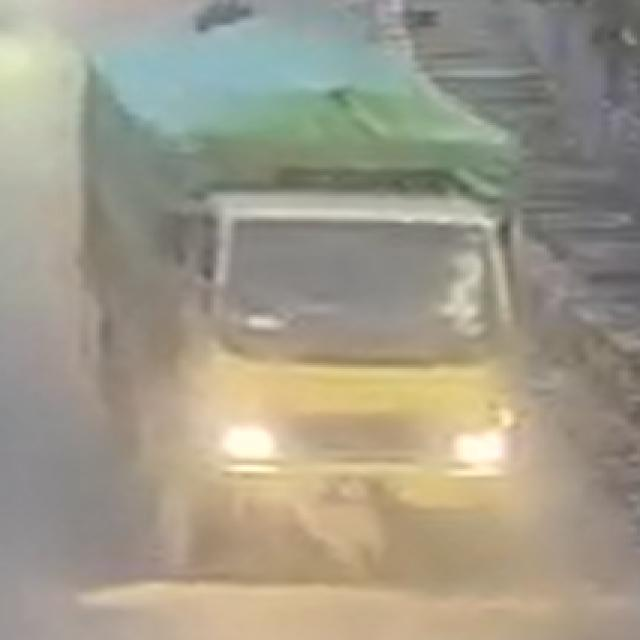Truck: (66, 28, 555, 578)
